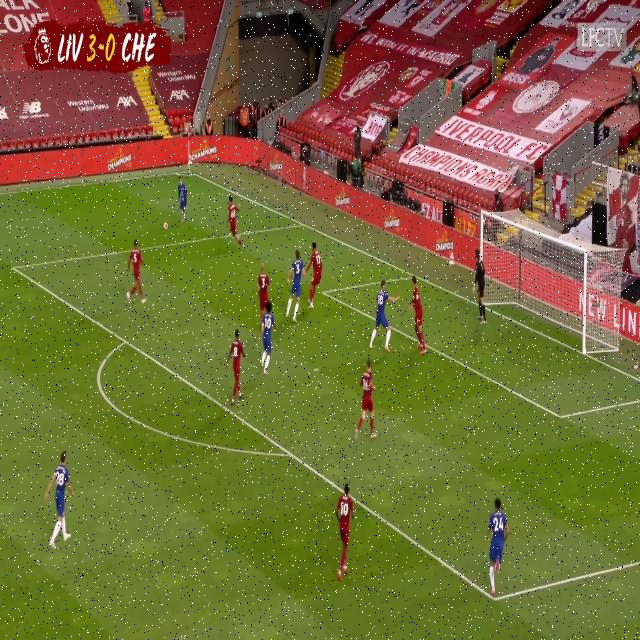Ball: (164, 224, 169, 231)
GoalKeeper: (474, 249, 488, 325)
TEAM 1: (334, 484, 354, 585), (224, 330, 247, 408), (358, 364, 377, 441), (408, 276, 425, 355), (126, 240, 146, 306), (307, 243, 324, 310), (227, 197, 244, 248), (256, 264, 272, 316)
TEAM 2: (45, 454, 77, 550), (486, 499, 508, 593), (369, 279, 396, 355), (284, 252, 305, 321), (260, 302, 276, 375), (178, 178, 190, 220)
